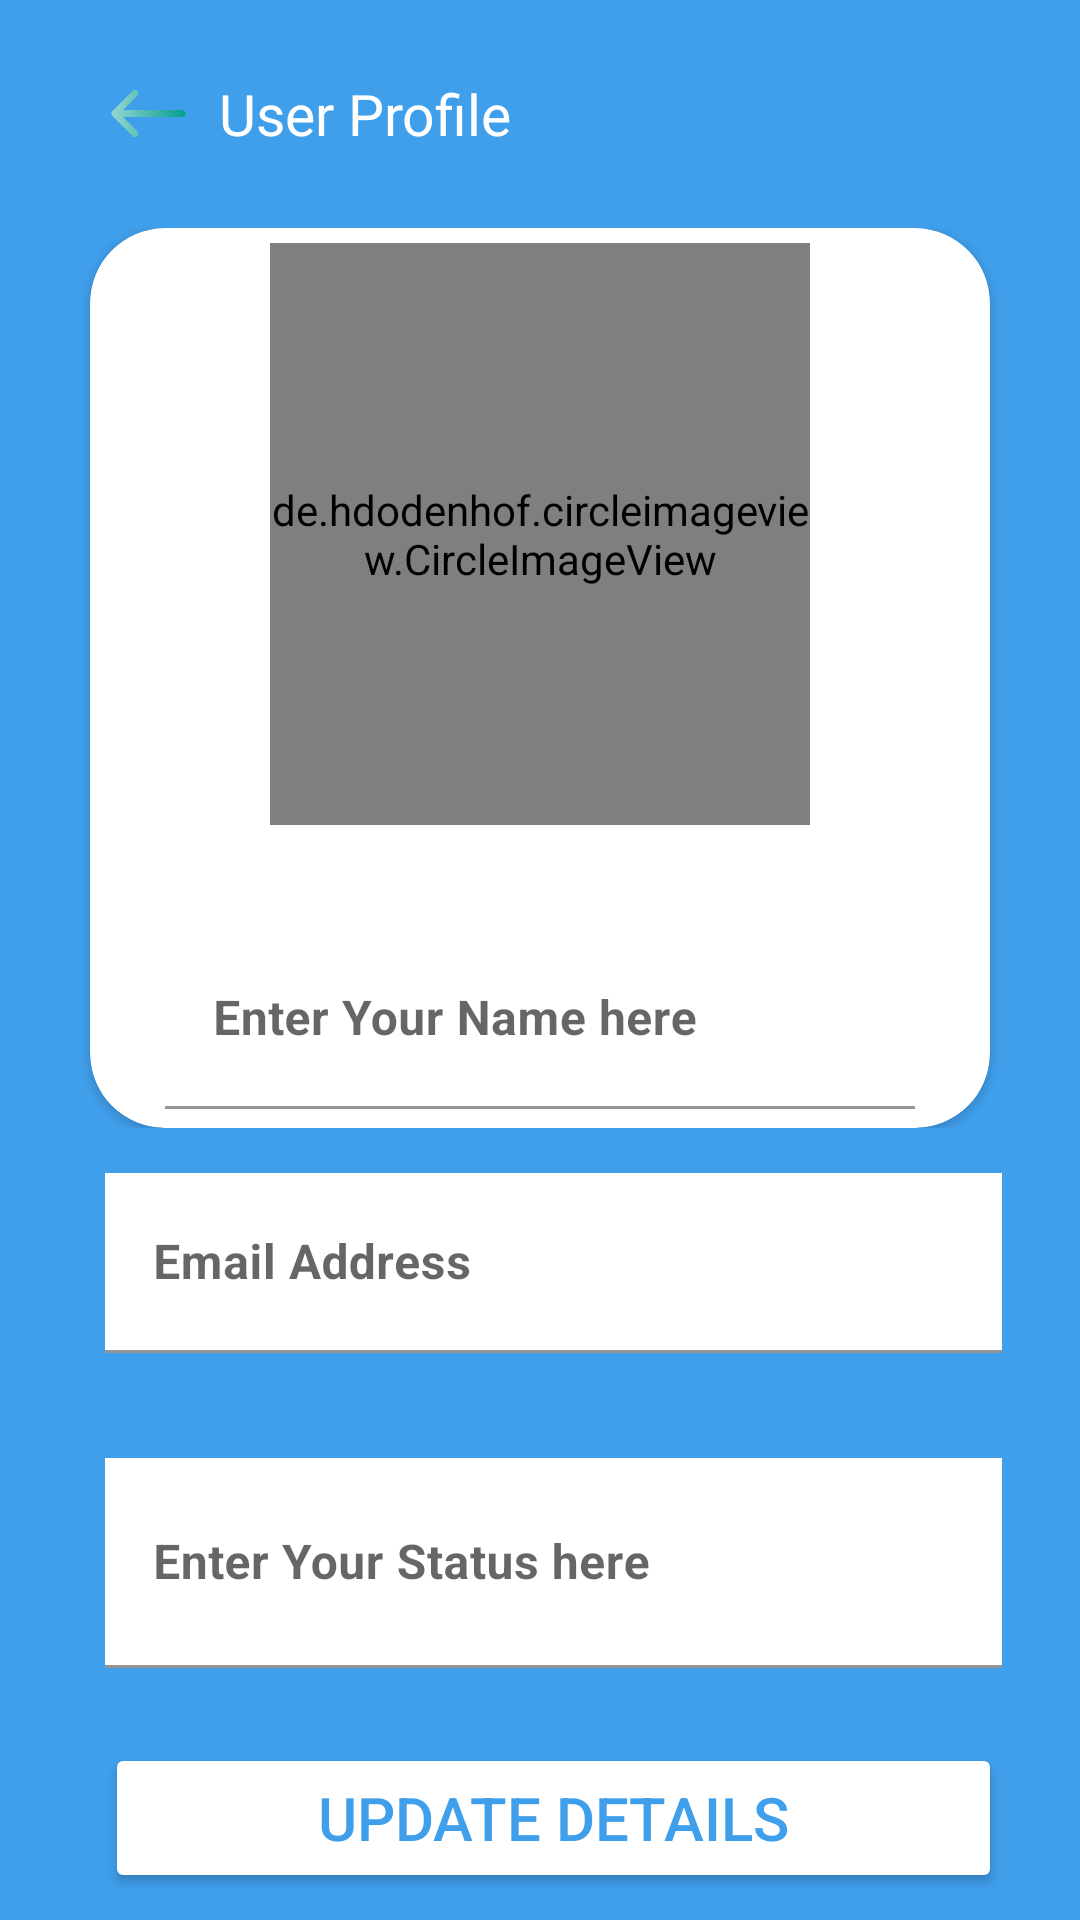

Named icons in this screenshot (1080px x 1920px) and their bounding boxes, (x1, y1, x2, y2):
arrow back: (111, 90, 186, 137)
